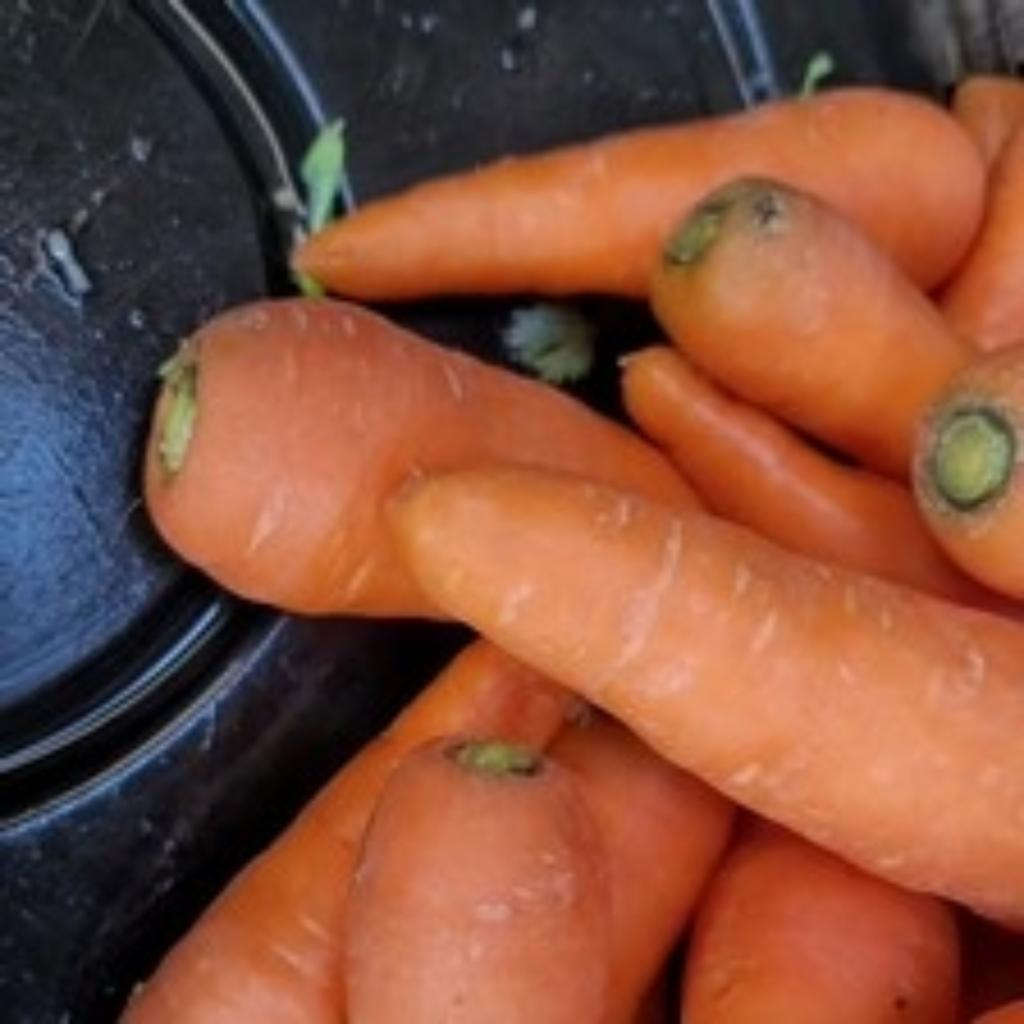carrot: (119, 78, 1015, 1015)
